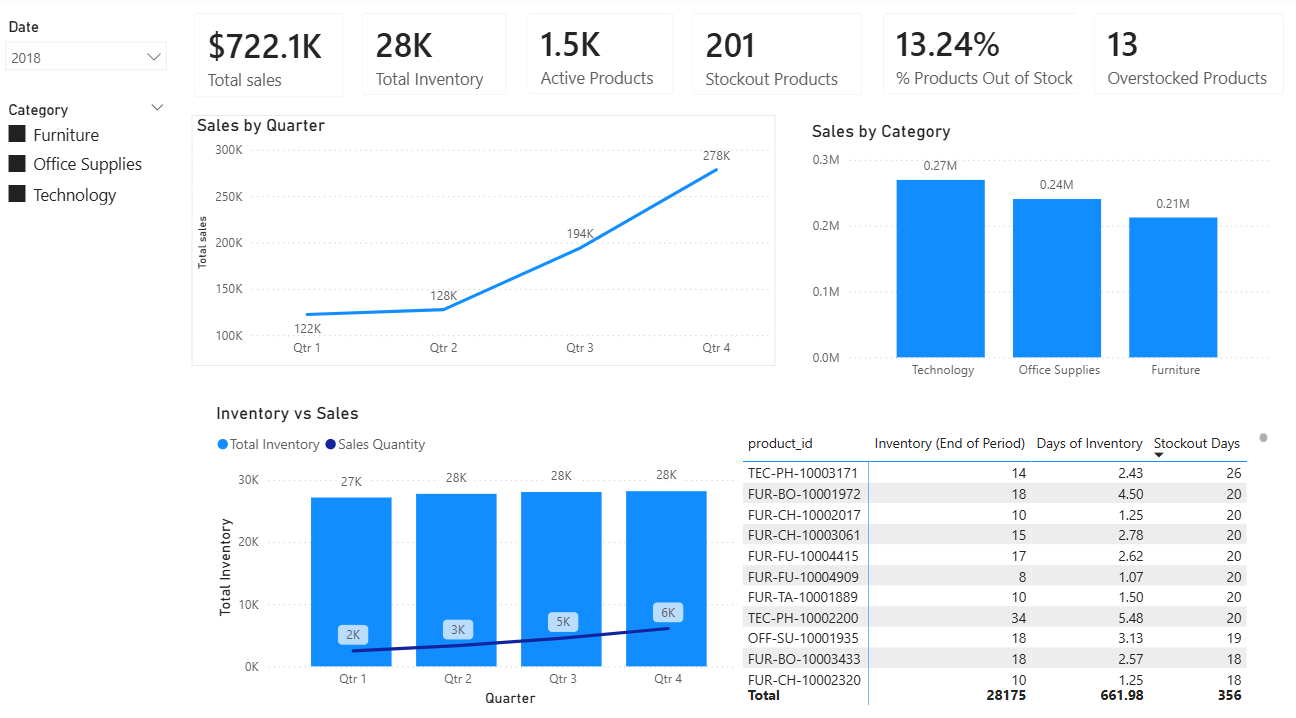

The page's visual inventory and layout, read from the dashboard file:
{"tool":"powerbi","page":{"name":"Executive Overview","canvas":[1280,720],"ordinal":0},"visuals":[{"type":"cardVisual","fields":{"Data":["fact_sales.Total sales"]},"box":[176.1,0,179,116.4],"z":0},{"type":"lineChart","title":"Sales by Quarter","fields":{"Y":["fact_sales.Total sales"],"Category":["dim_date.full_date.Variation.Date Hierarchy.Year","dim_date.full_date.Variation.Date Hierarchy.Quarter","dim_date.full_date.Variation.Date Hierarchy.Month"]},"box":[190.3,115.8,567.1,243.3],"z":1000},{"type":"slicer","fields":{"Values":["dim_date.full_date.Variation.Date Hierarchy.Year","dim_date.full_date.Variation.Date Hierarchy.Quarter","dim_date.full_date.Variation.Date Hierarchy.Month"]},"box":[0,17.7,176.6,80.5],"z":2000},{"type":"slicer","fields":{"Values":["dim_product.category"]},"box":[0,98.1,176.6,123.6],"z":3000},{"type":"cardVisual","fields":{"Data":["fact_sales.Active Products"]},"box":[499.3,0,176.1,113.5],"z":4000},{"type":"cardVisual","fields":{"Data":["dim_product.% Products Out of Stock"]},"box":[843.6,0,231.5,113.3],"z":5000},{"type":"cardVisual","fields":{"Data":["fact_inventory_snapshot.Total Inventory"]},"box":[339.1,0,174.7,115],"z":6000},{"type":"cardVisual","fields":{"Data":["fact_inventory_snapshot.Overstocked Products"]},"box":[1049.3,0,218.6,113.3],"z":7000},{"type":"cardVisual","fields":{"Data":["fact_inventory_snapshot.Current Stockout Products"]},"box":[659,0,199.2,115],"z":8000},{"type":"clusteredColumnChart","title":"Sales by Category","fields":{"Y":["fact_sales.Total sales"],"Category":["fact_sales.category"]},"box":[786.8,121.7,453.3,259],"z":9000},{"type":"lineClusteredColumnComboChart","title":"Inventory vs Sales","fields":{"Category":["dim_date.full_date.Variation.Date Hierarchy.Year","dim_date.full_date.Variation.Date Hierarchy.Quarter","dim_date.full_date.Variation.Date Hierarchy.Month"],"Y2":["fact_sales.Sales quantity"],"Y":["fact_inventory_snapshot.Total Inventory"]},"box":[210,396.4,529.8,298.3],"z":10000},{"type":"pivotTable","fields":{"Rows":["dim_product.product_id"],"Values":["fact_inventory_snapshot.Inventory (End of Period)","fact_inventory_snapshot.Days of Inventory","fact_inventory_snapshot.Stockout Days"]},"box":[720.1,419.9,520,274.7],"z":11000}]}

Visuals, with their boxes in screenshot pixels (x1, y1, x2, y2), scaled from the page's 1280x720 canvas onto the 1296x718 screenshot:
cardVisual - fact_sales.Total sales: [178, 0, 360, 116]
"Sales by Quarter" lineChart: [193, 115, 767, 358]
slicer - dim_date.full_date.Variation.Date Hierarchy.Year x dim_date.full_date.Variation.Date Hierarchy.Quarter: [0, 18, 179, 98]
slicer - dim_product.category: [0, 98, 179, 221]
cardVisual - fact_sales.Active Products: [506, 0, 684, 113]
cardVisual - dim_product.% Products Out of Stock: [854, 0, 1089, 113]
cardVisual - fact_inventory_snapshot.Total Inventory: [343, 0, 520, 115]
cardVisual - fact_inventory_snapshot.Overstocked Products: [1062, 0, 1284, 113]
cardVisual - fact_inventory_snapshot.Current Stockout Products: [667, 0, 869, 115]
"Sales by Category" clusteredColumnChart: [797, 121, 1256, 380]
"Inventory vs Sales" lineClusteredColumnComboChart: [213, 395, 749, 693]
pivotTable - dim_product.product_id x fact_inventory_snapshot.Inventory (End of Period): [729, 419, 1256, 693]
